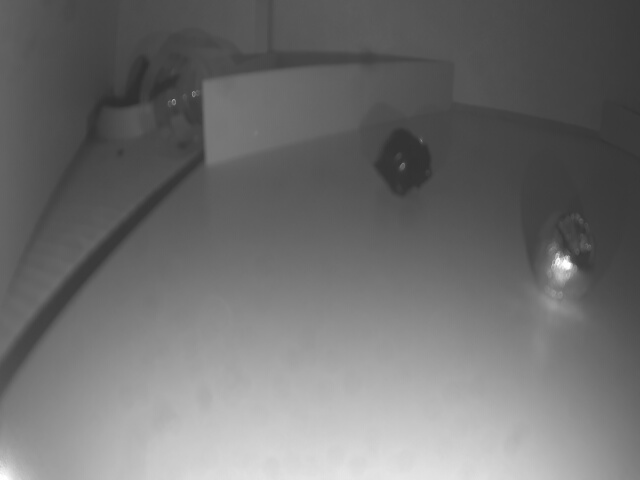Green: (601, 101, 640, 161)
Red: (202, 61, 452, 167)
